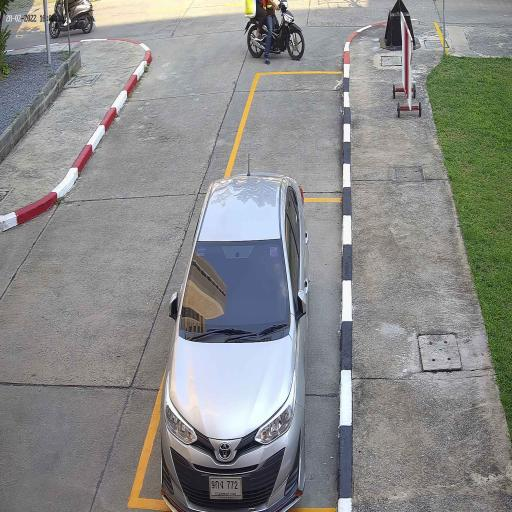car: (160, 173, 308, 512)
motorcycle: (246, 0, 306, 61), (48, 0, 94, 36)
